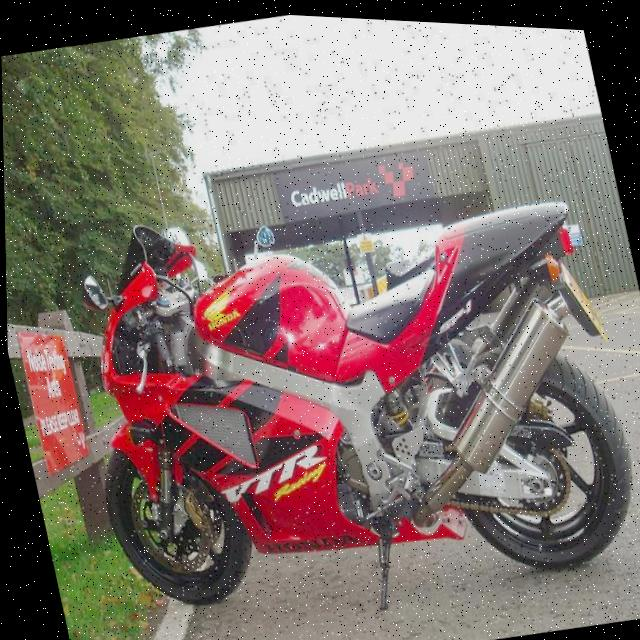motorcycle: (43, 129, 640, 640)
